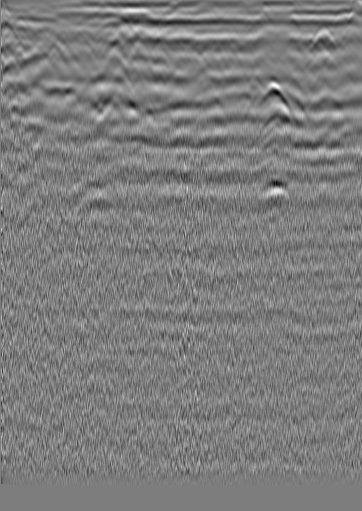가스: (254, 178, 292, 212)
상수: (0, 19, 20, 39)
오수: (315, 25, 335, 45)
우수: (170, 31, 190, 51)
